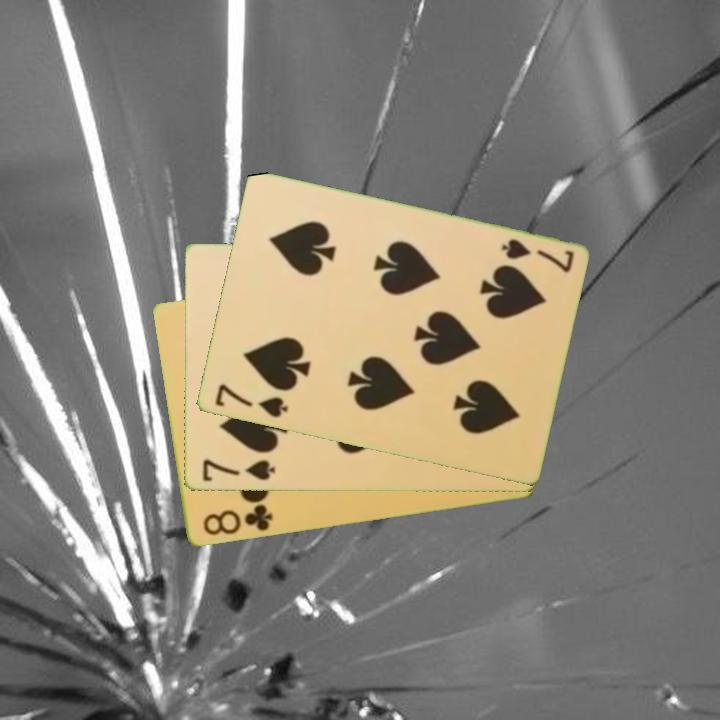7s: (211, 380, 291, 421), (497, 235, 577, 276), (199, 456, 278, 485)
8c: (199, 501, 276, 539)
